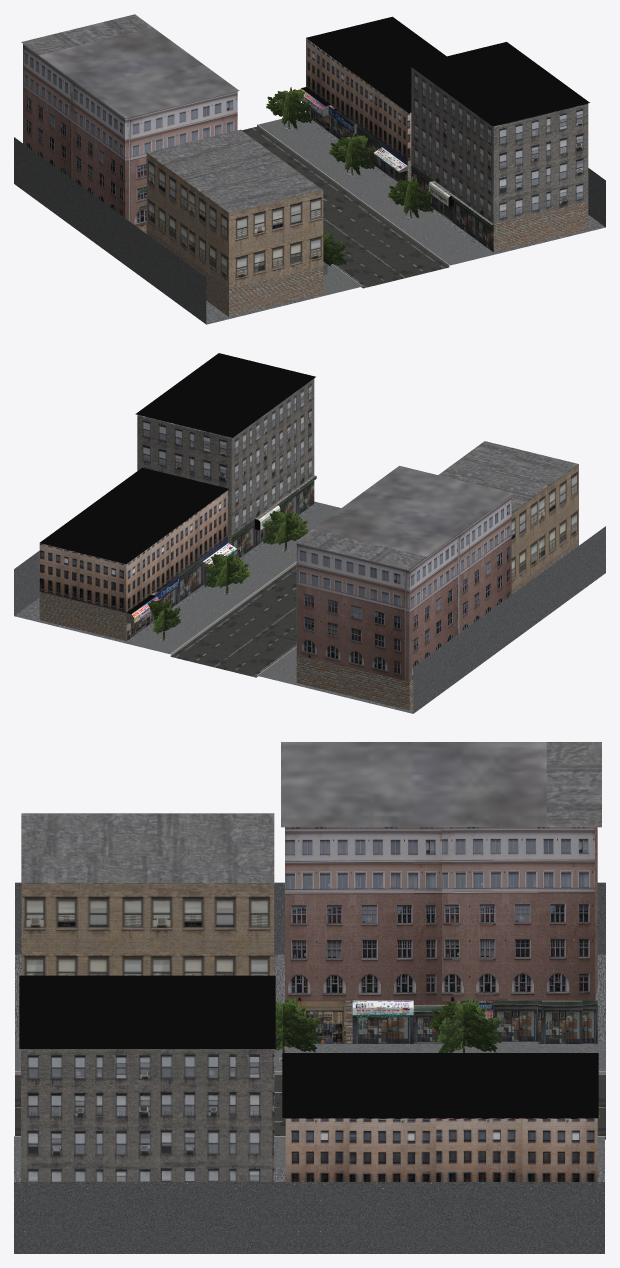
The model's file is Environment.fbx.
The picture shows the model from 3 angles, top to bottom: view 1: azimuth 30°, elevation 25°; view 2: azimuth 150°, elevation 25°; view 3: azimuth 270°, elevation 25°; orthographic projection. The views are drawn at different scales.
Parts seen in each view (by area): view 1: Building_1_Mesh, Building_4_mesh, Building_2_Mesh, Building_3_Mesh, Road, Side Walk L.001, Side Walk L, Road.001, Side Walk L.002, Side Walk L.004, Side Walk L.006, Side Walk L.007 (+8 smaller); view 2: Building_4_mesh, Building_1_Mesh, Building_3_Mesh, Building_2_Mesh, Road.003, Side Walk L.007, Side Walk L.006, Road.002, Side Walk L.004, Side Walk L.002, Side Walk L, Side Walk L.005 (+5 smaller); view 3: Building_4_mesh, Building_1_Mesh, Building_2_Mesh, Building_3_Mesh, Side Walk L.003, Side Walk L.007, Side Walk L.001, Side Walk L.005, Side Walk L.006, TreeSmall_tree3_0.002, TreeSmall_tree3_0.001, Side Walk L.002 (+2 smaller).
Part boxes in pixels (left/top/right/bottom): Building_1_Mesh: left=409, top=42, right=589, bottom=252; Building_4_mesh: left=21, top=14, right=239, bottom=233; Building_2_Mesh: left=146, top=129, right=327, bottom=316; Building_3_Mesh: left=300, top=16, right=446, bottom=182; Road: left=327, top=232, right=448, bottom=288; Side Walk L.001: left=401, top=168, right=605, bottom=267; Side Walk L: left=158, top=243, right=362, bottom=324; Road.001: left=323, top=197, right=400, bottom=247; Side Walk L.002: left=110, top=207, right=158, bottom=288; Side Walk L.004: left=62, top=172, right=110, bottom=253; Side Walk L.006: left=14, top=137, right=61, bottom=218; Side Walk L.007: left=257, top=96, right=407, bottom=161; Building_4_mesh: left=295, top=466, right=513, bottom=710; Building_1_Mesh: left=135, top=353, right=316, bottom=558; Building_3_Mesh: left=39, top=467, right=236, bottom=641; Building_2_Mesh: left=438, top=441, right=578, bottom=594; Road.003: left=170, top=621, right=296, bottom=677; Side Walk L.007: left=14, top=550, right=218, bottom=655; Side Walk L.006: left=256, top=632, right=461, bottom=713; Road.002: left=219, top=586, right=296, bottom=640; Side Walk L.004: left=461, top=597, right=509, bottom=678; Side Walk L.002: left=509, top=561, right=557, bottom=642; Side Walk L: left=558, top=526, right=605, bottom=607; Side Walk L.005: left=118, top=553, right=266, bottom=620; Building_4_mesh: left=281, top=742, right=601, bottom=1043; Building_1_Mesh: left=19, top=975, right=275, bottom=1181; Building_2_Mesh: left=21, top=813, right=274, bottom=975; Building_3_Mesh: left=282, top=1053, right=598, bottom=1181; Side Walk L.003: left=161, top=1136, right=309, bottom=1253; Side Walk L.007: left=457, top=1136, right=604, bottom=1253; Side Walk L.001: left=14, top=1136, right=161, bottom=1253; Side Walk L.005: left=309, top=1182, right=457, bottom=1253; Side Walk L.006: left=458, top=882, right=605, bottom=1075; TreeSmall_tree3_0.002: left=430, top=998, right=502, bottom=1052; TreeSmall_tree3_0.001: left=274, top=998, right=322, bottom=1061; Side Walk L.002: left=274, top=882, right=310, bottom=1075.
Bounding box in the file's own units: 5726 × 1964 × 4787.
Materials: 7 (7 with a texture image).
